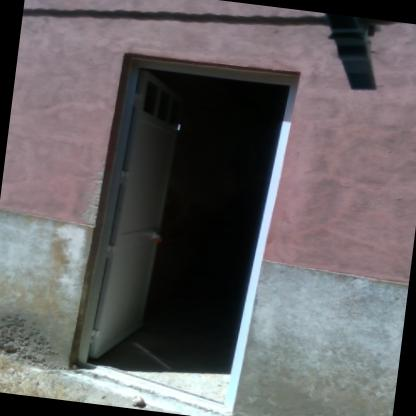open: (67, 34, 321, 401)
